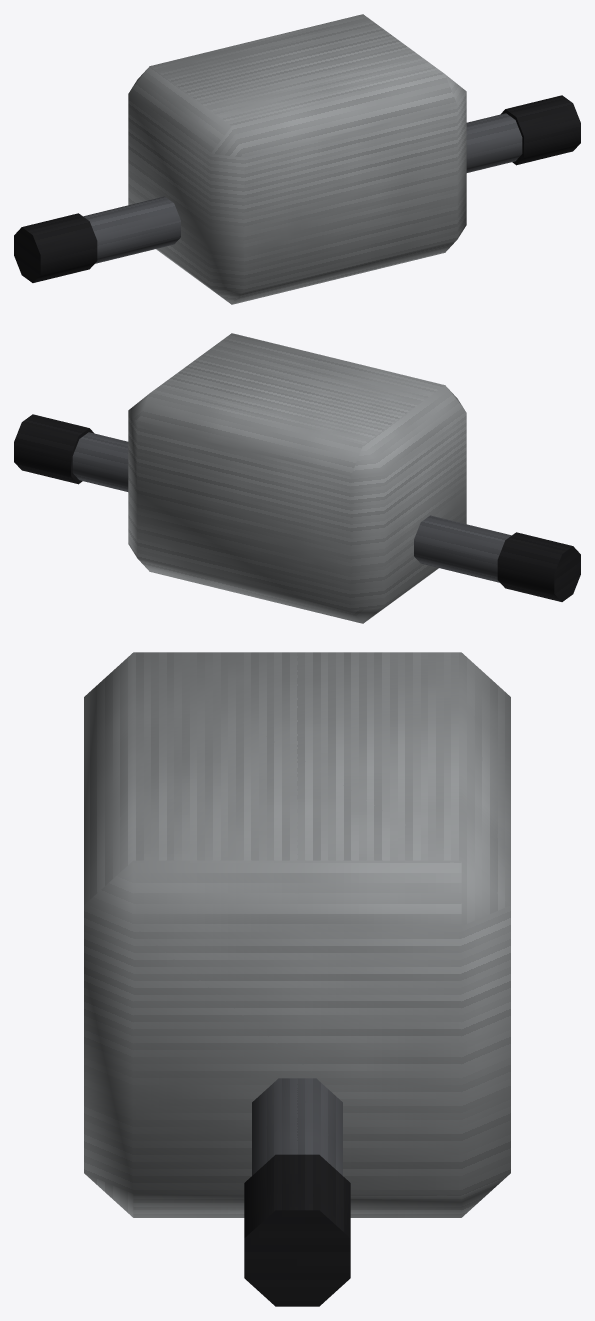
Rendered from conversao_tracao_fabrica.glb.
3 views of the same model, one above another, from view 1: azimuth 30°, elevation 25°; view 2: azimuth 150°, elevation 25°; view 3: azimuth 270°, elevation 25° (orthographic). The views are drawn at different scales.
Visible parts, largest first — view 1: conversao_tracao_fabrica; view 2: conversao_tracao_fabrica; view 3: conversao_tracao_fabrica.
Boxes of the visible parts, <box> form: conversao_tracao_fabrica: <box>14,14,580,304</box>; conversao_tracao_fabrica: <box>14,333,580,623</box>; conversao_tracao_fabrica: <box>84,652,510,1306</box>.
Size of the model in its own units: 0.76 by 0.24 by 0.26.
Materials: 1 (1 with a texture image).
